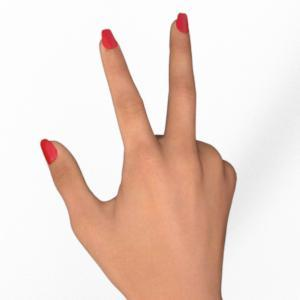scissors: (49, 23, 236, 300)
